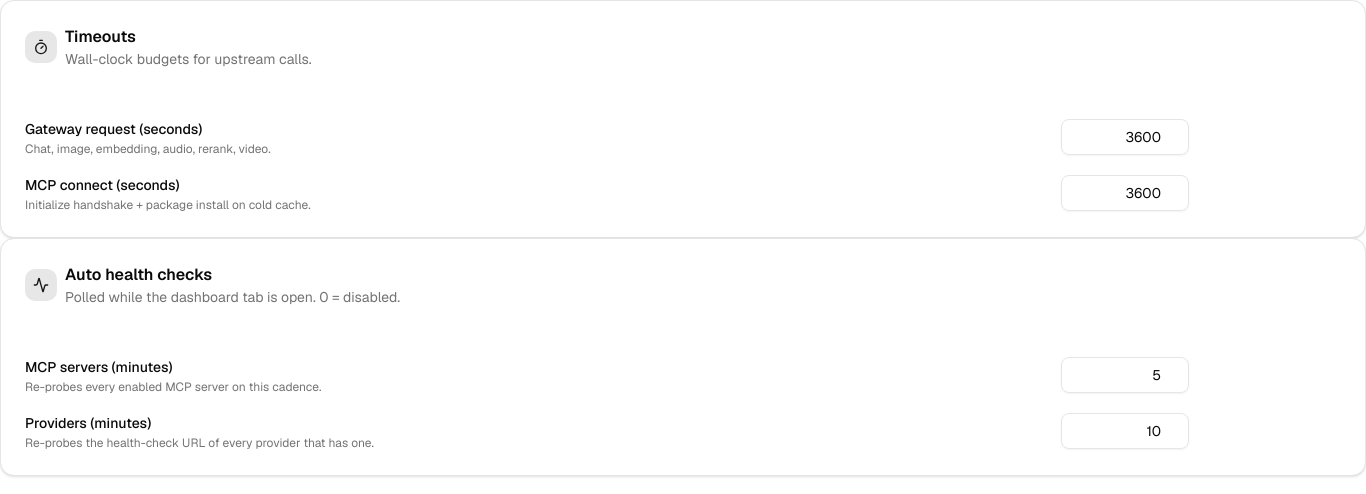
Test: TimeoutsSection › reverts and skips the commit when the field is left blank
This screenshot has width=1366, height=494.
Clear the number field showing "3600" in the row of "Gateway request (seconds)". click: (1125, 137)
box: [1061,119,1189,155]
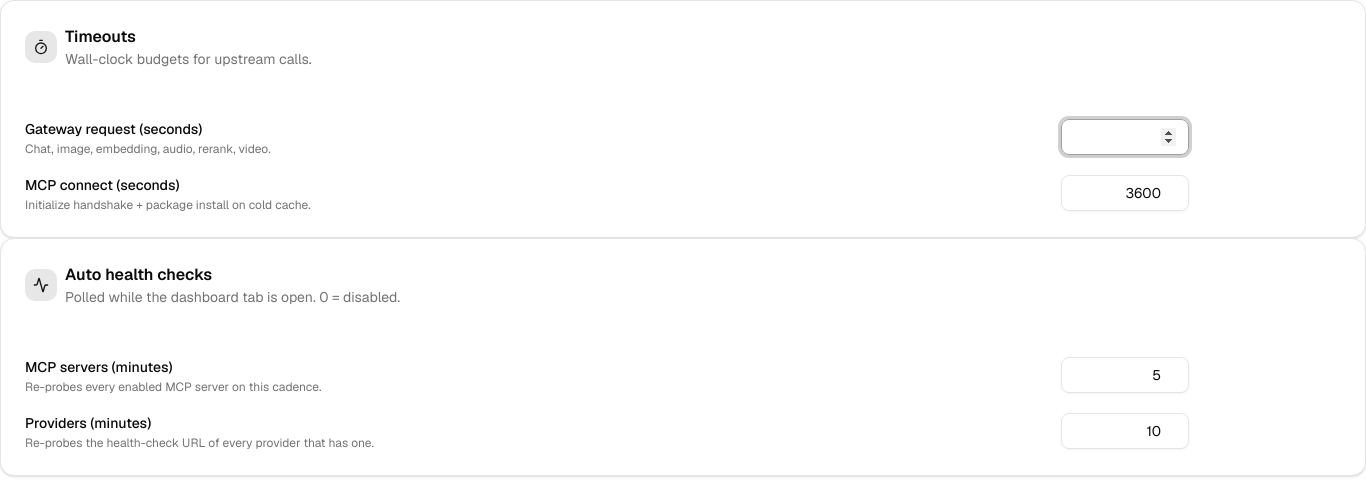
Press Tab
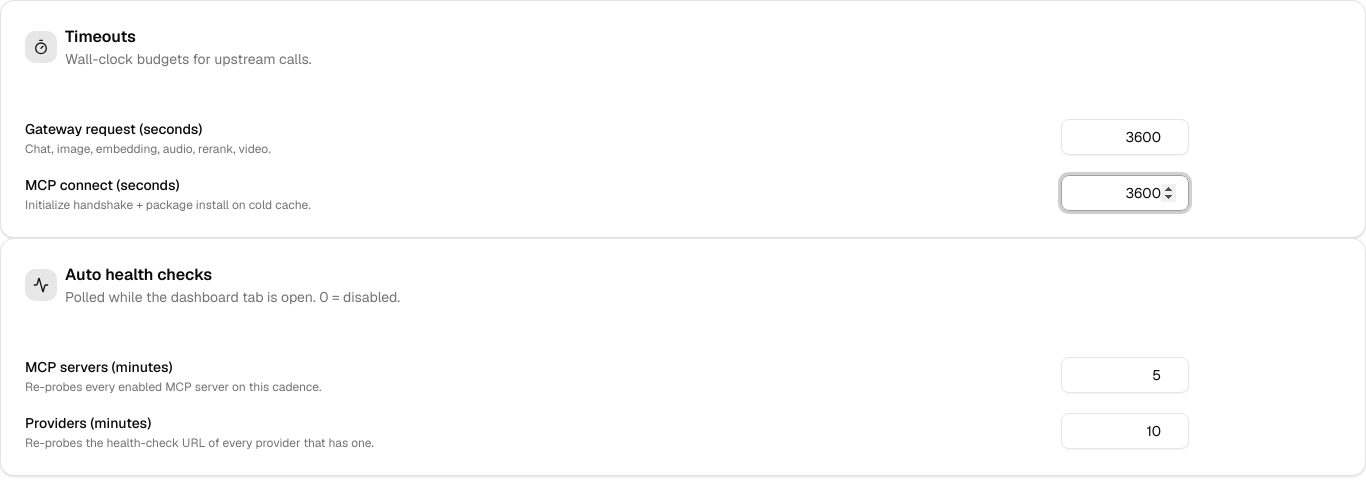
Check: the number field showing "3600" in the row of "Gateway request (seconds)" holds "3600", box [1061,119,1189,155]
